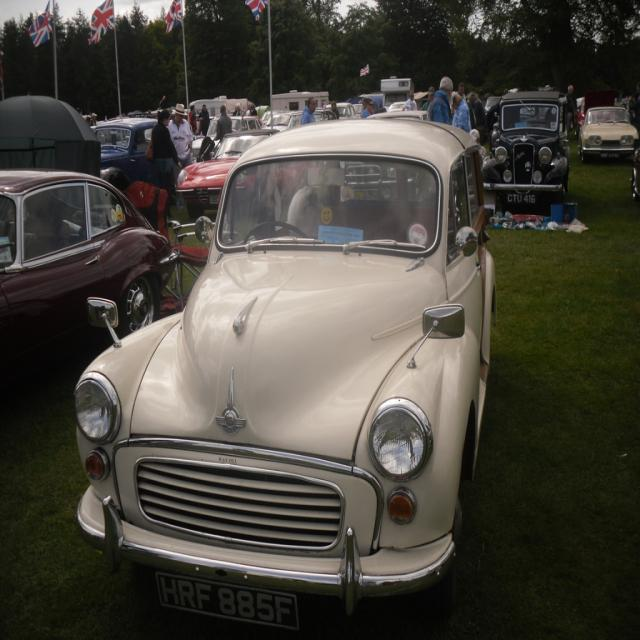car: (70, 113, 502, 621)
